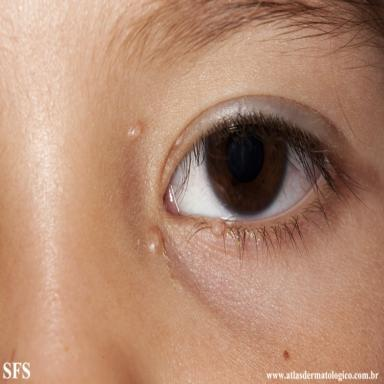Molluscum-Contagiosum: (146, 226, 163, 254), (127, 122, 143, 140), (211, 220, 224, 236)
